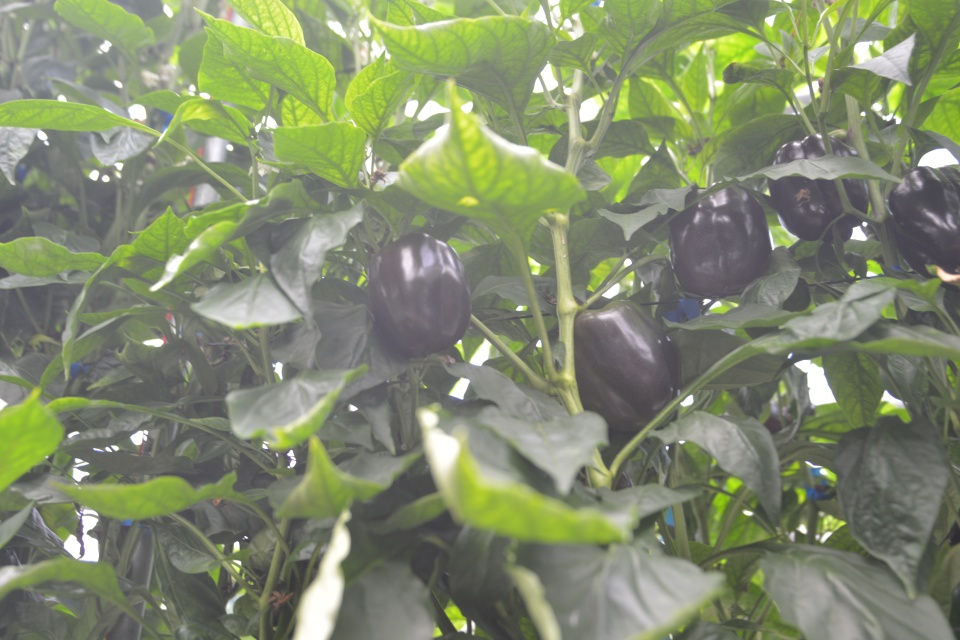fruit: (572, 296, 678, 437), (365, 228, 474, 364), (668, 180, 774, 298), (766, 132, 870, 246), (887, 165, 960, 292)
